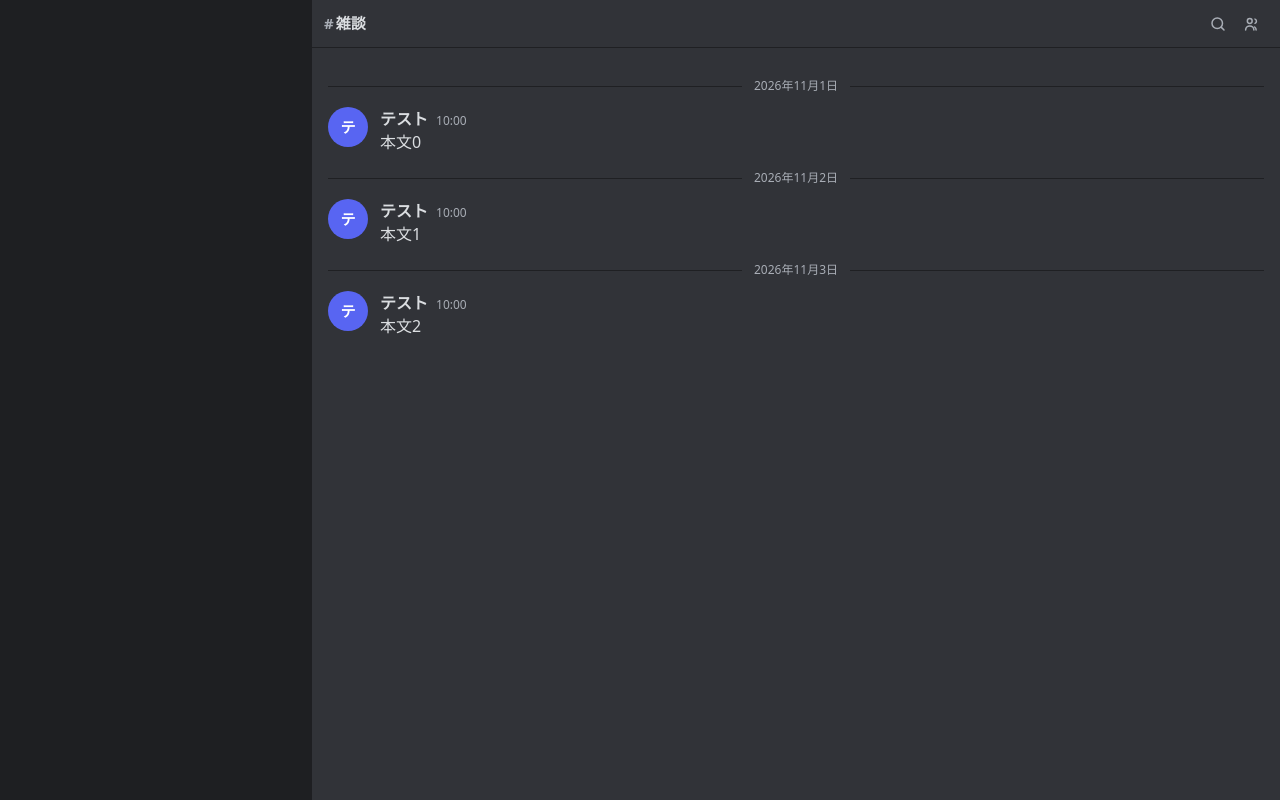
旧垢発見のストーリーフラグ連携（順序5） › True End 手がかり2: toldKaiOldAccount の前には kai を隠し、後に出して開くと te02-kai-joined-mhc が立つ
The image size is (1280, 800).
Later steps or results of the test are not shown.
Click the button named "メンバー": (1252, 24) [1236,8,1268,40]
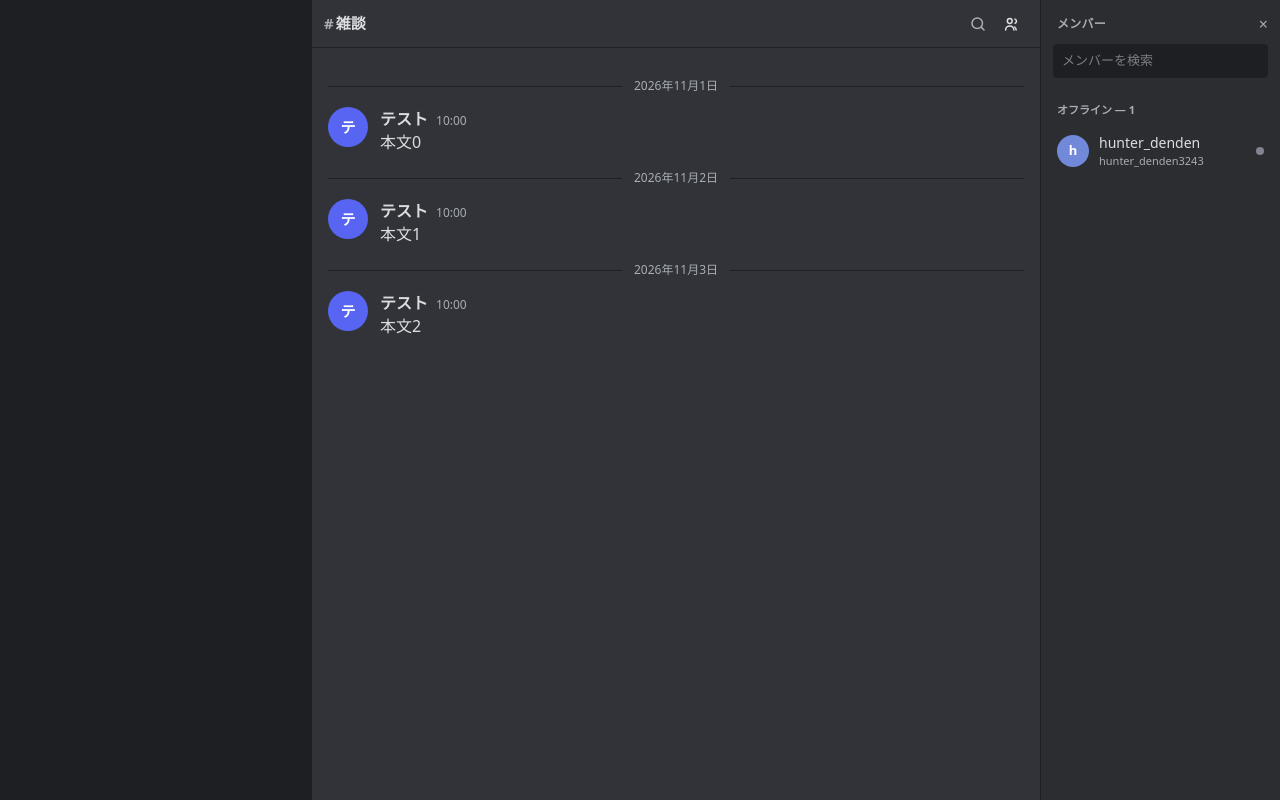
Now the number of buttons with class "members-row" is 1, box [1049,126,1272,176]
